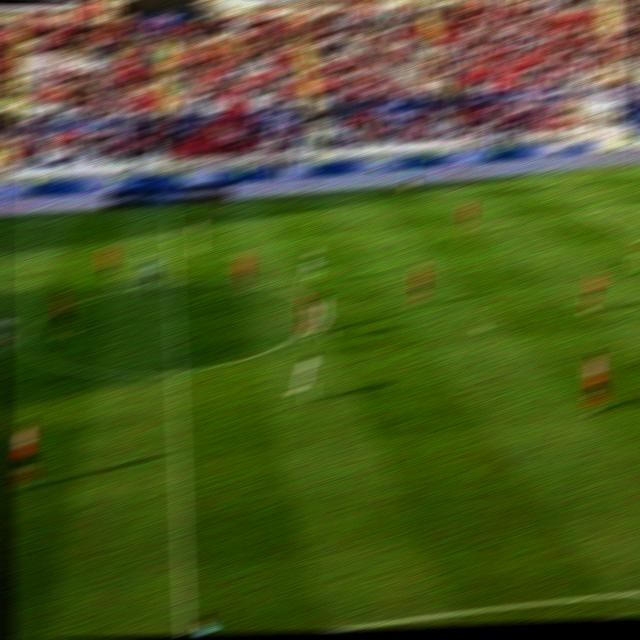bigarea_top_inner: (573, 203, 593, 216)
halfcircle_bottom: (163, 358, 189, 382)
halfcircle_top: (161, 271, 185, 290)
midline_top_intersection: (159, 204, 181, 221)
